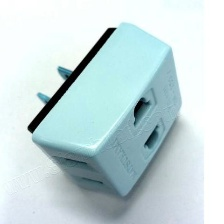three_eye_plug: (23, 18, 183, 204)
